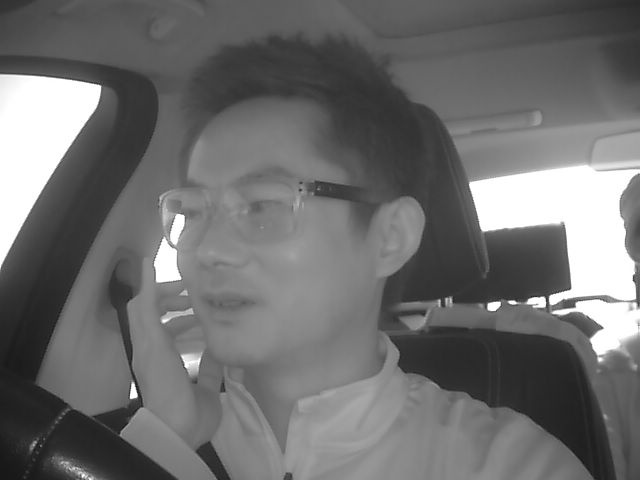hand: (119, 258, 229, 446)
